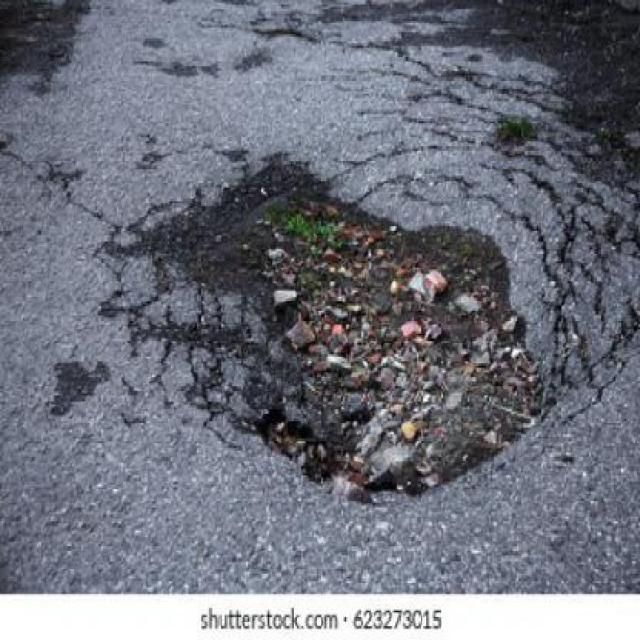Pothole: (165, 148, 558, 514)
